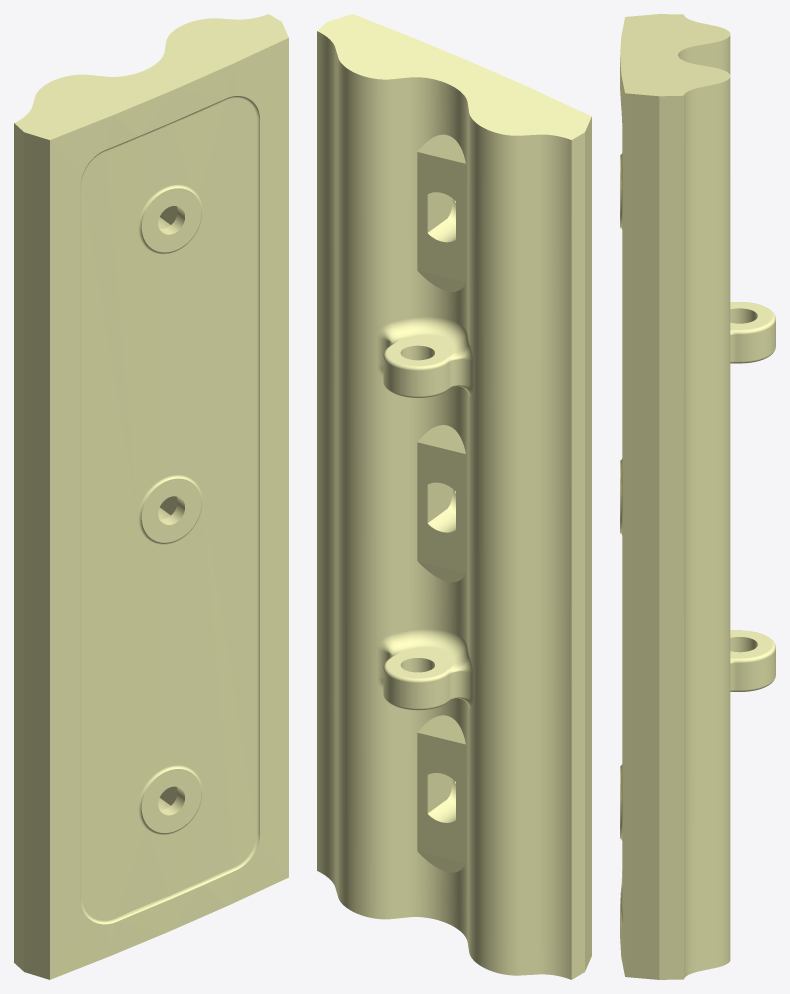
Rendered from BallMill_NGDS_ShellLiner_WaveLifter_Steel_[W9_5680_12].glb.
3 views of the same model, side by side, from view 1: azimuth 30°, elevation 25°; view 2: azimuth 150°, elevation 25°; view 3: azimuth 270°, elevation 25° (orthographic). The views are drawn at different scales.
Visible parts, largest first — view 1: Node1; view 2: Node1; view 3: Node1.
Part boxes in pixels (x1,y1,x2,y2): Node1: [14, 14, 288, 979]; Node1: [317, 14, 591, 979]; Node1: [620, 14, 775, 979].
Bounding box in the file's own units: 0.4319 × 1.42 × 0.215.
